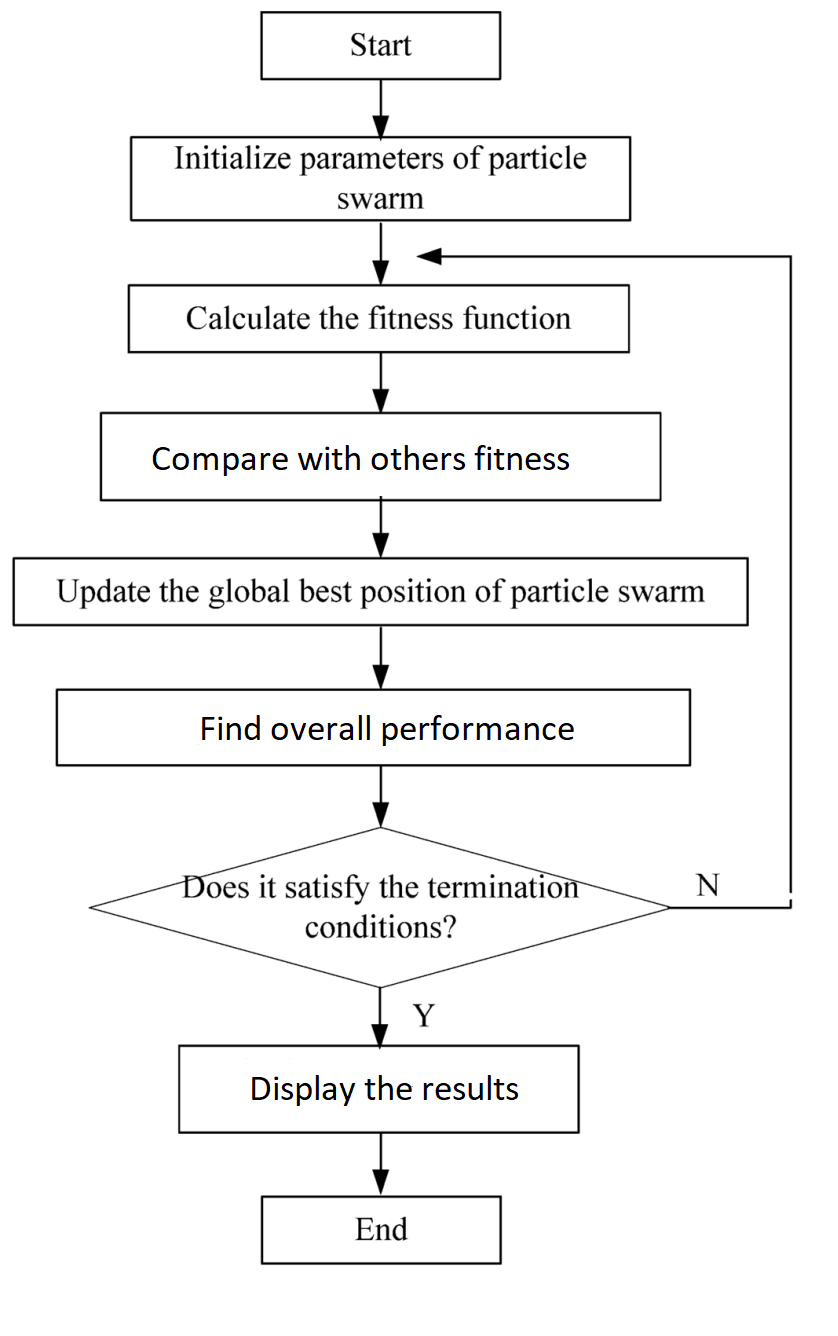arrow: (411, 244, 798, 913), (367, 219, 395, 292), (366, 350, 396, 416), (368, 623, 394, 696), (367, 495, 395, 562), (367, 757, 393, 829), (368, 979, 393, 1048), (366, 76, 396, 133), (371, 1128, 390, 1201)
decision: (85, 823, 683, 990)
process: (50, 679, 701, 775), (7, 552, 756, 632), (94, 403, 668, 507), (125, 131, 637, 225), (123, 278, 639, 357), (172, 1041, 584, 1137), (252, 1190, 507, 1270), (253, 6, 506, 84)
text: (174, 863, 582, 941), (167, 140, 593, 213), (51, 568, 707, 612), (182, 297, 579, 334), (144, 441, 576, 472), (195, 709, 579, 742), (245, 1070, 529, 1108), (341, 26, 420, 60), (353, 1211, 412, 1245), (686, 870, 729, 906), (406, 996, 441, 1031)
